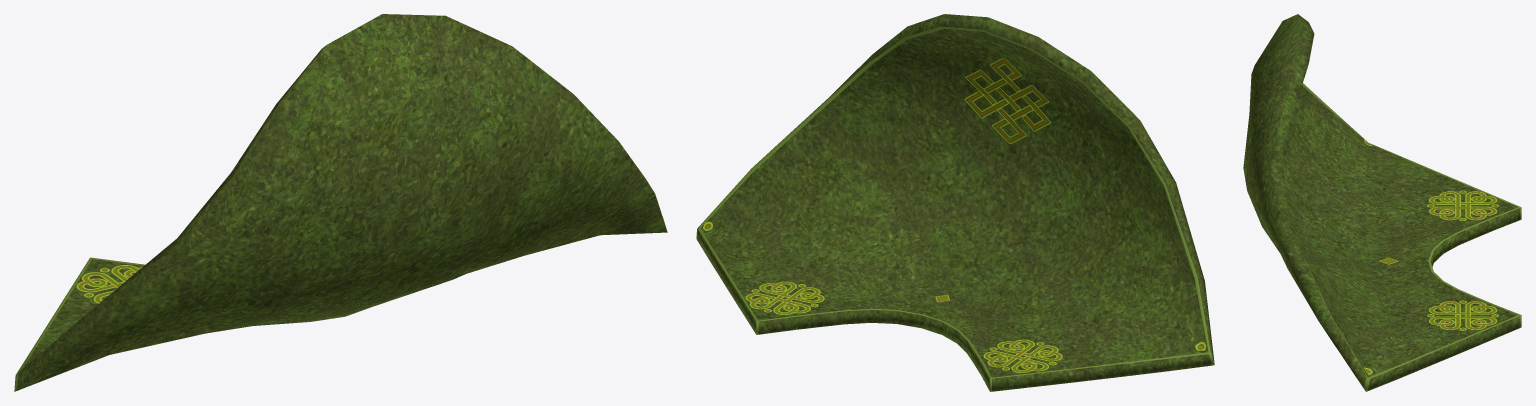
File: mountain_concave_corner.gltf
3 views of the same model, side by side, from view 1: azimuth 30°, elevation 25°; view 2: azimuth 150°, elevation 25°; view 3: azimuth 270°, elevation 25° (orthographic). The views are drawn at different scales.
Visible parts, largest first — view 1: mountain_concave_corner_glb; view 2: mountain_concave_corner_glb; view 3: mountain_concave_corner_glb.
Boxes of the visible parts, left/top/right/bottom form: mountain_concave_corner_glb: left=14, top=14, right=667, bottom=391; mountain_concave_corner_glb: left=696, top=14, right=1214, bottom=391; mountain_concave_corner_glb: left=1243, top=14, right=1521, bottom=391.
Size of what is drawn, in the model's own units: 10.12 by 4.89 by 4.97.
Materials: 2 (2 with a texture image).
